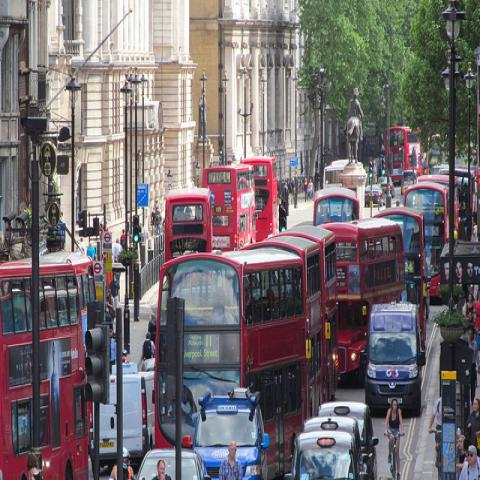bus: (156, 244, 305, 472), (0, 251, 98, 479), (248, 220, 339, 419), (322, 216, 407, 390), (376, 208, 431, 350), (404, 182, 450, 304), (201, 162, 257, 251), (164, 187, 215, 262), (246, 156, 282, 239), (415, 174, 459, 240), (384, 125, 422, 179), (313, 188, 359, 225), (323, 160, 350, 188)
car: (192, 387, 270, 480), (318, 401, 379, 477), (366, 332, 420, 414), (285, 429, 369, 479), (136, 447, 212, 479), (304, 416, 355, 431), (365, 184, 386, 207), (401, 170, 420, 194), (377, 176, 395, 198)
